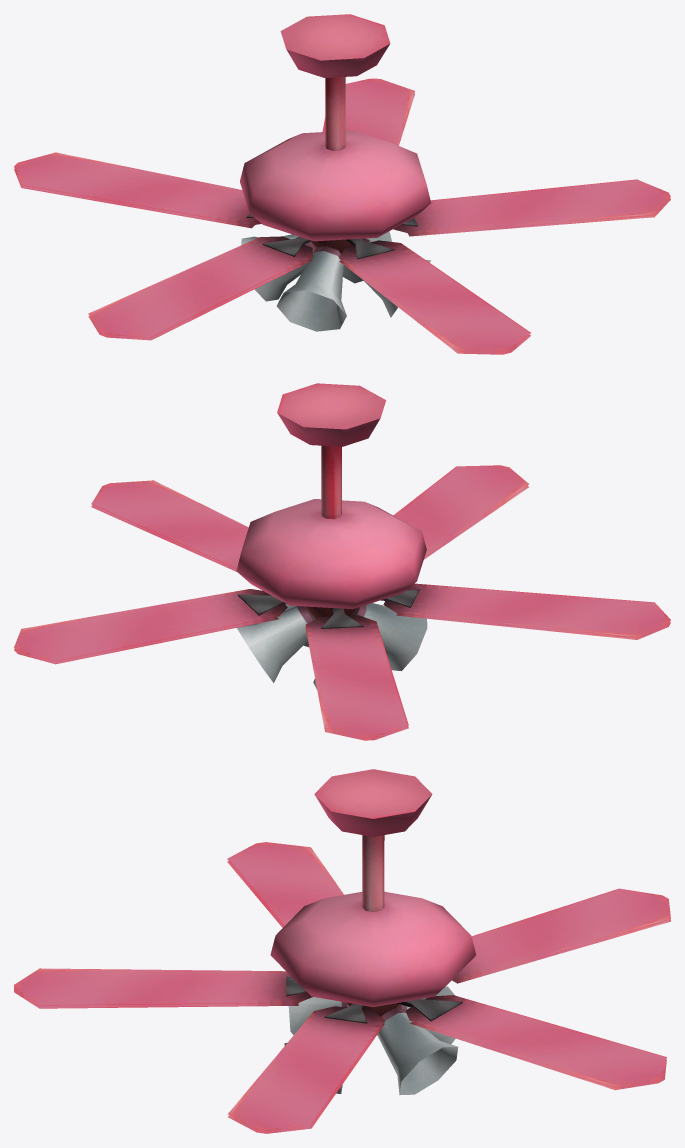
The model's file is furni_0200145.FBX.
3 renders of one model, top to bottom at view 1: azimuth 30°, elevation 25°; view 2: azimuth 150°, elevation 25°; view 3: azimuth 270°, elevation 25°, orthographic. The views are drawn at different scales.
Parts seen in each view (by area): view 1: furni_0200145; view 2: furni_0200145; view 3: furni_0200145.
Boxes of the visible parts, box(x1,y1,x2,y2) form: furni_0200145: box(14, 14, 670, 354); furni_0200145: box(14, 383, 670, 740); furni_0200145: box(14, 769, 670, 1133).
Bounding box in the file's own units: 147 × 66.51 × 141.
1 material, 1 textured.
